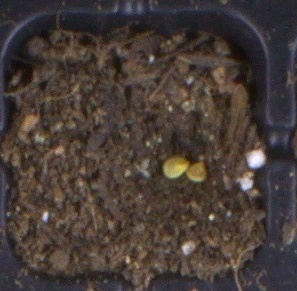chilli seed: (162, 156, 190, 180), (186, 160, 207, 182)
